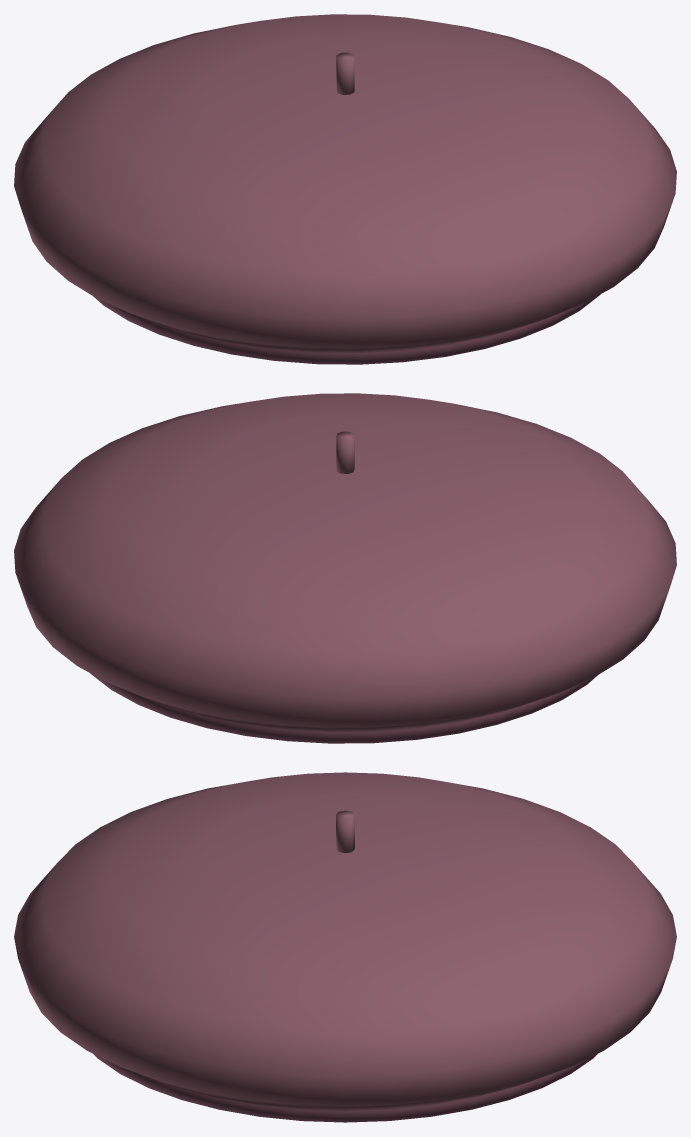
File: acc_hat_beret.glb
3 renders of one model, top to bottom at view 1: azimuth 30°, elevation 25°; view 2: azimuth 150°, elevation 25°; view 3: azimuth 270°, elevation 25°, orthographic.
Visible parts, largest first — view 1: acc_hat_beret; view 2: acc_hat_beret; view 3: acc_hat_beret.
Part boxes in pixels (bbox=[...]): acc_hat_beret: bbox=[14, 14, 676, 364]; acc_hat_beret: bbox=[14, 393, 676, 743]; acc_hat_beret: bbox=[14, 772, 676, 1122].
Size of the model in its own units: 0.28 by 0.091 by 0.28.
